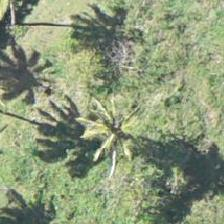Kelapa_Sawit: (19, 122, 109, 212), (0, 36, 62, 126)
